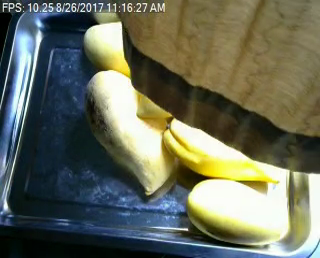Mango: (83, 70, 177, 194), (162, 116, 280, 185), (187, 178, 288, 244), (83, 19, 133, 78), (136, 91, 175, 118)
